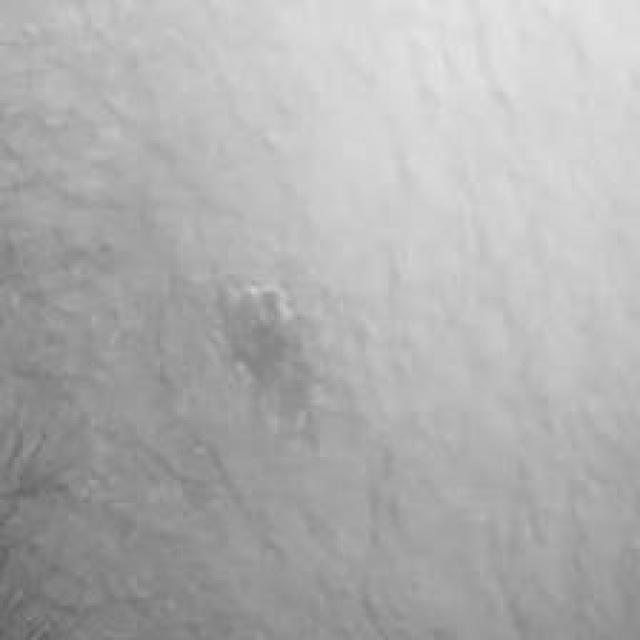others: (0, 2, 640, 632)
